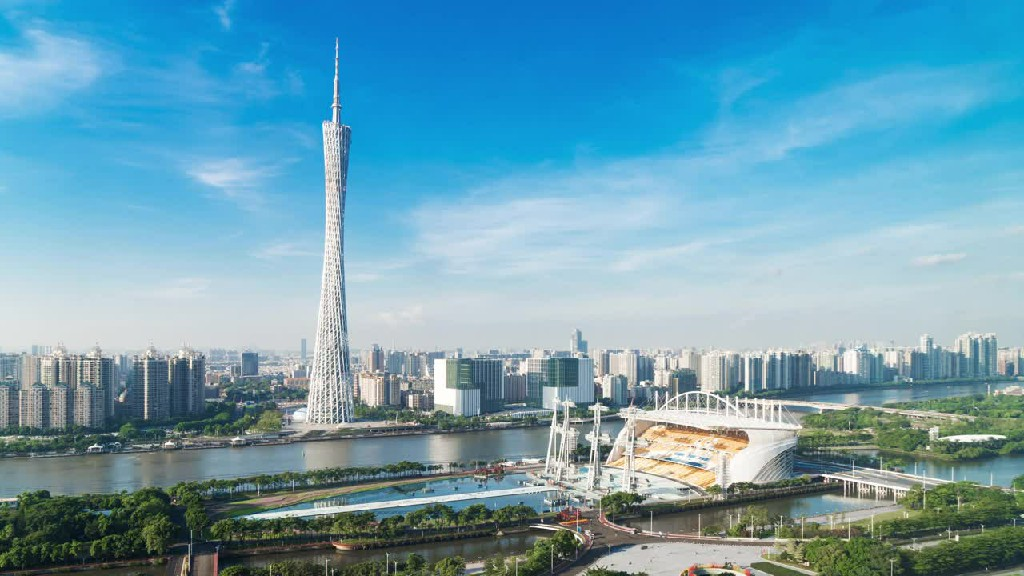Canton: (306, 38, 352, 423)
